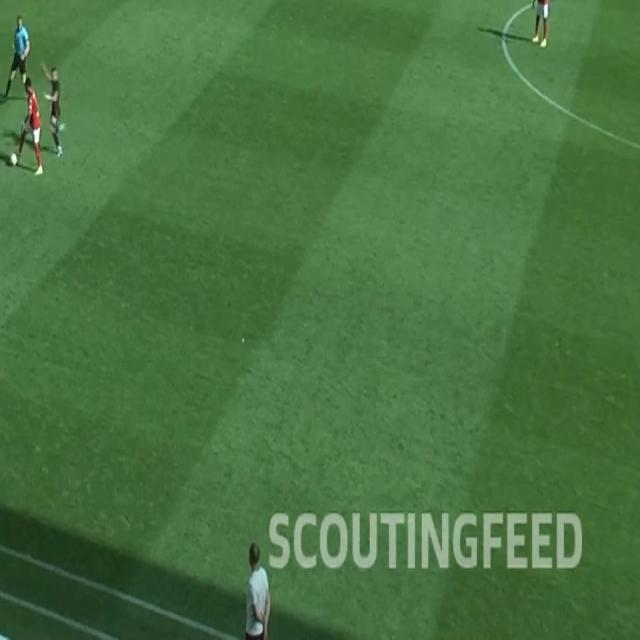ball: (8, 150, 18, 166)
